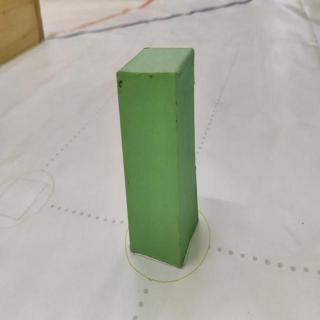greenbox: (115, 44, 202, 269)
